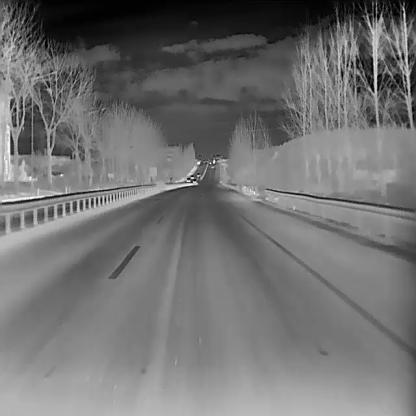car: (186, 176, 190, 182)
